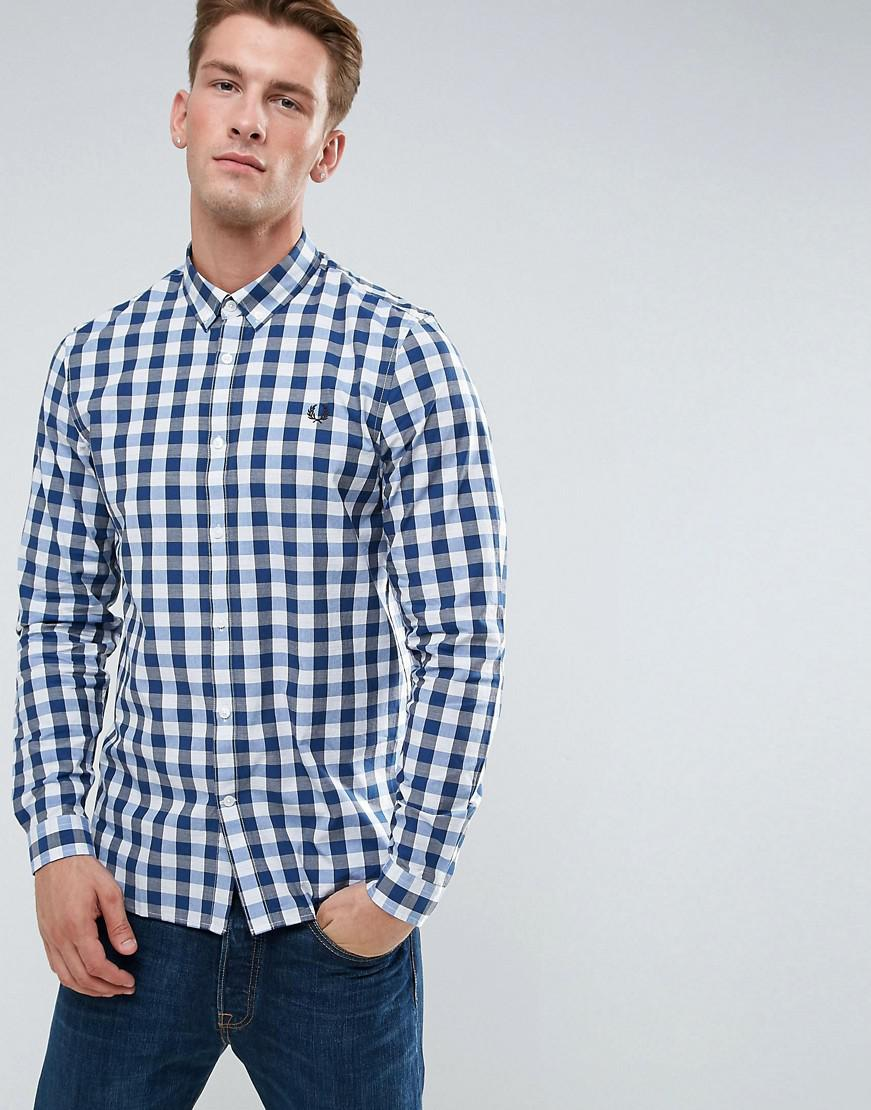teeshirt: (7, 234, 529, 947)
